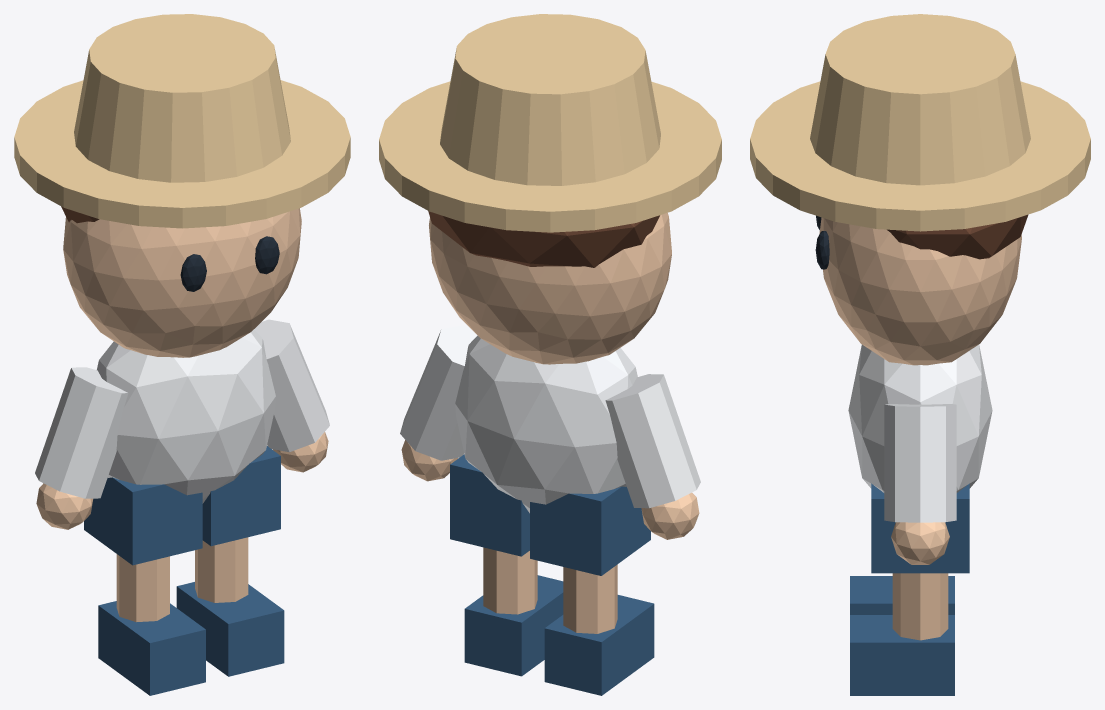
File: chibi_fisher_blockout.glb
The picture shows the model from 3 angles, left to right: view 1: azimuth 30°, elevation 25°; view 2: azimuth 150°, elevation 25°; view 3: azimuth 270°, elevation 25°; orthographic projection.
Visible parts, largest first — view 1: chibi_fisher_blockout; view 2: chibi_fisher_blockout; view 3: chibi_fisher_blockout.
Part boxes in pixels (left/top/right/bottom): chibi_fisher_blockout: left=14, top=14, right=350, bottom=695; chibi_fisher_blockout: left=379, top=14, right=721, bottom=695; chibi_fisher_blockout: left=750, top=14, right=1090, bottom=695.
Bounding box in the file's own units: 1.04 × 2.05 × 1.04.
